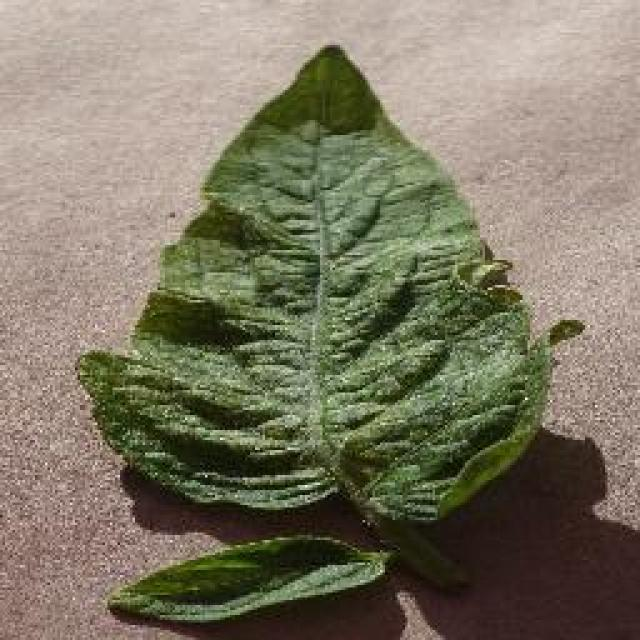Tomato mosaic virus leaf: (70, 39, 560, 529), (99, 538, 399, 628)
